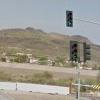Traffic light: (60, 4, 86, 34)
